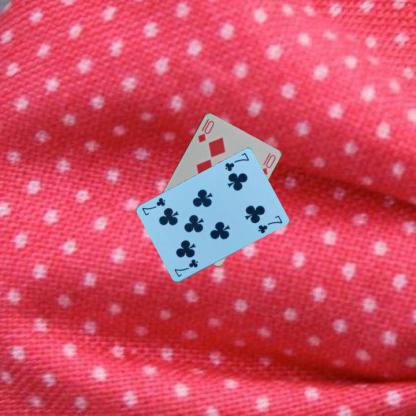10d: (196, 117, 216, 144)
7c: (223, 150, 250, 173), (172, 256, 199, 278)
